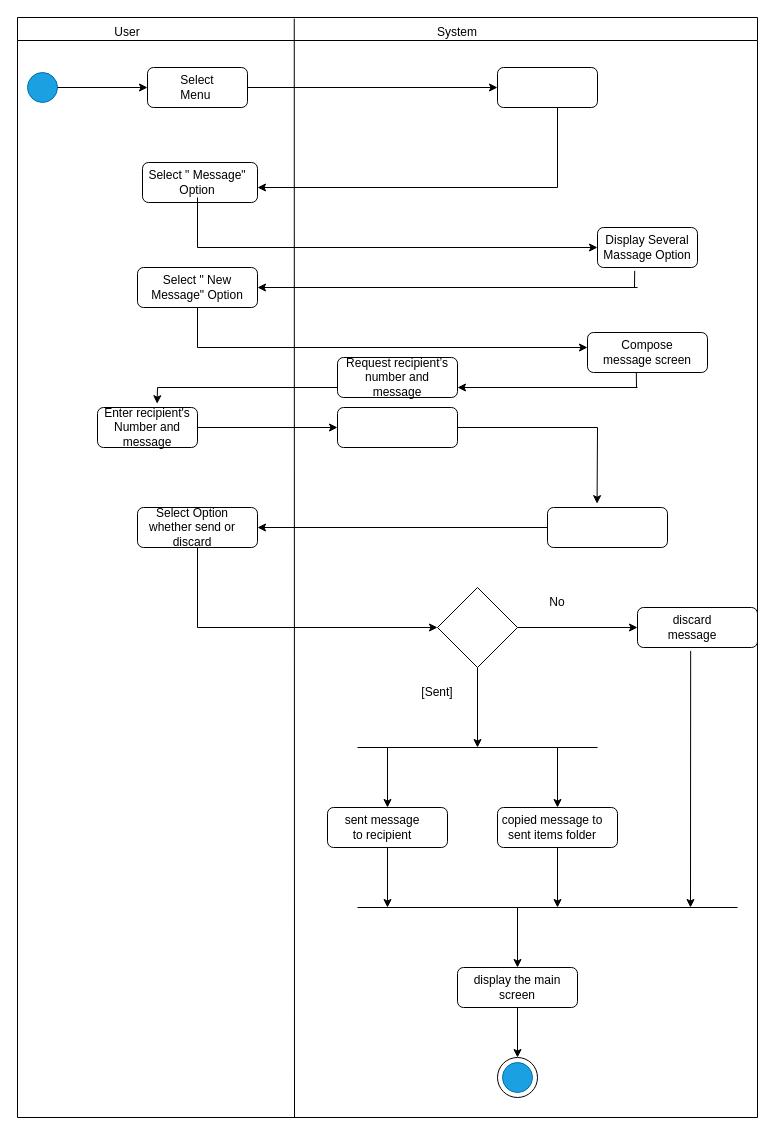
The diagram is 775 pixels wide and 1136 high, and some of its shapes have lost their labels. Each missing label, with the box of its shape:
Display Several Option: (496, 66, 598, 108)
Process: (336, 406, 458, 448)
Request response: (546, 506, 668, 548)
